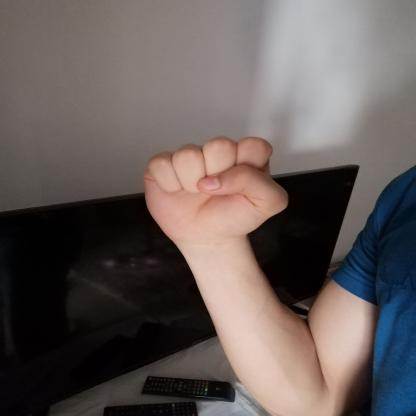SAD: (117, 119, 314, 265)
